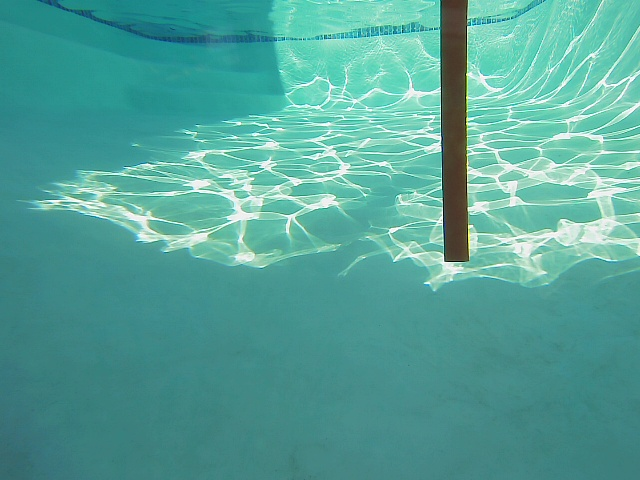Gate: (3, 1, 639, 477)
